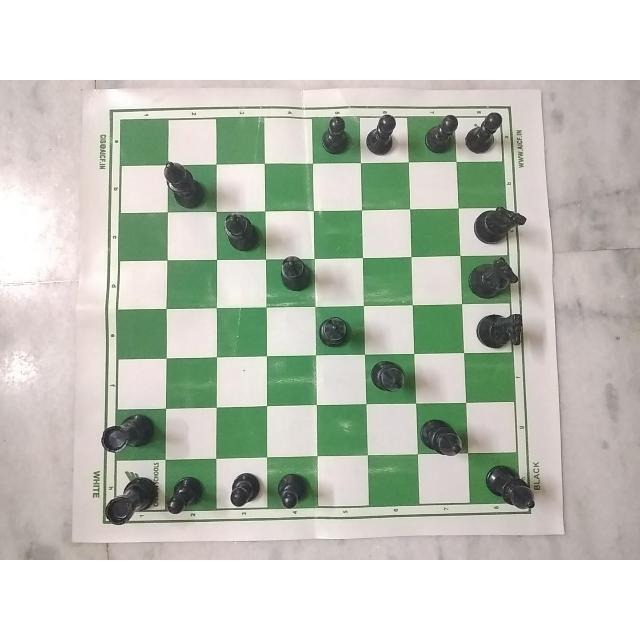black-bishop: (485, 459, 545, 516), (156, 156, 212, 211), (422, 415, 466, 462), (373, 354, 411, 398), (273, 254, 315, 293), (224, 211, 262, 253), (320, 311, 356, 351)
black-knight: (469, 304, 527, 356), (468, 196, 526, 243), (470, 256, 527, 300)
black-pawn: (460, 108, 508, 159), (164, 472, 209, 521), (315, 112, 353, 168), (420, 108, 458, 160), (275, 468, 312, 520), (222, 463, 261, 508), (366, 108, 402, 155)
black-rook: (94, 471, 156, 532), (97, 406, 155, 454)
